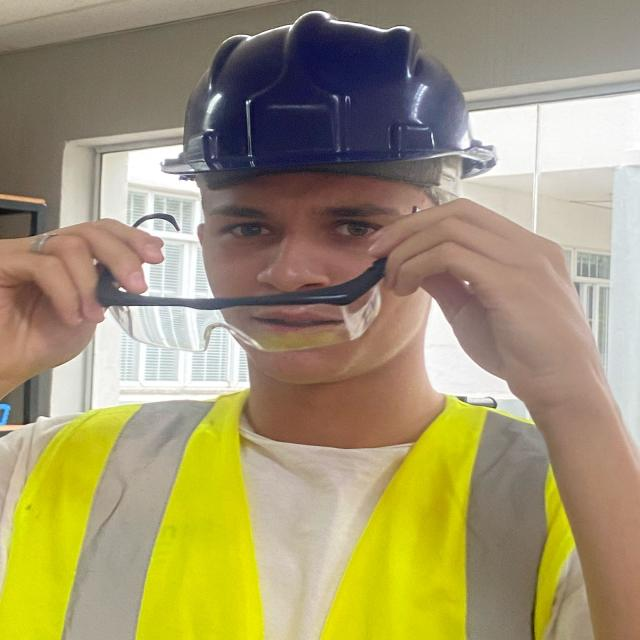CAPACETE: (153, 8, 505, 186)
COLETE: (3, 378, 593, 637)
OCULOS: (107, 203, 411, 356)
SEM LUVA: (367, 199, 610, 394), (3, 213, 167, 401)
